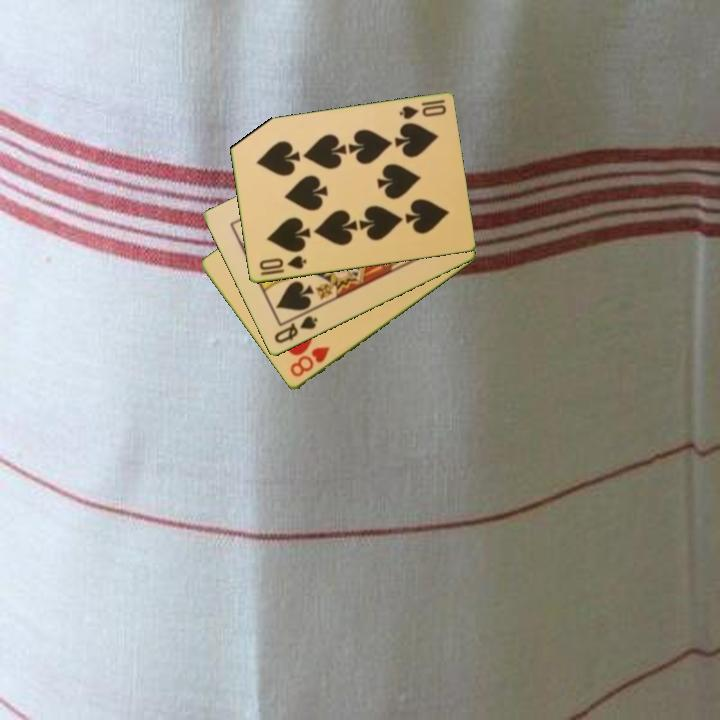10s: (255, 252, 309, 279), (395, 97, 449, 122)
8h: (286, 343, 333, 380)
Qs: (270, 312, 321, 347)
